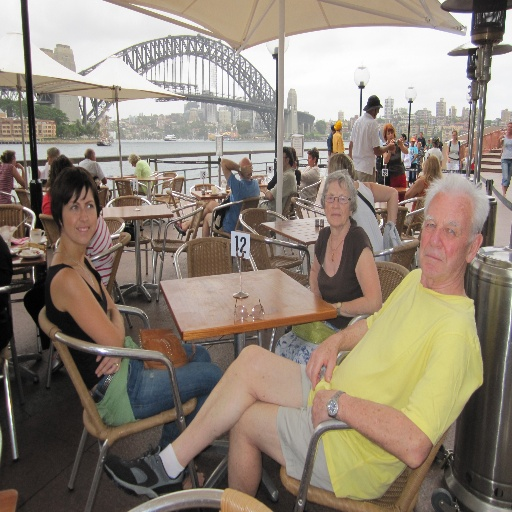hand: (308, 331, 352, 395), (311, 389, 342, 432), (93, 354, 121, 373), (240, 164, 254, 180), (387, 142, 395, 151), (395, 139, 402, 148), (14, 162, 22, 169), (391, 137, 397, 143)
